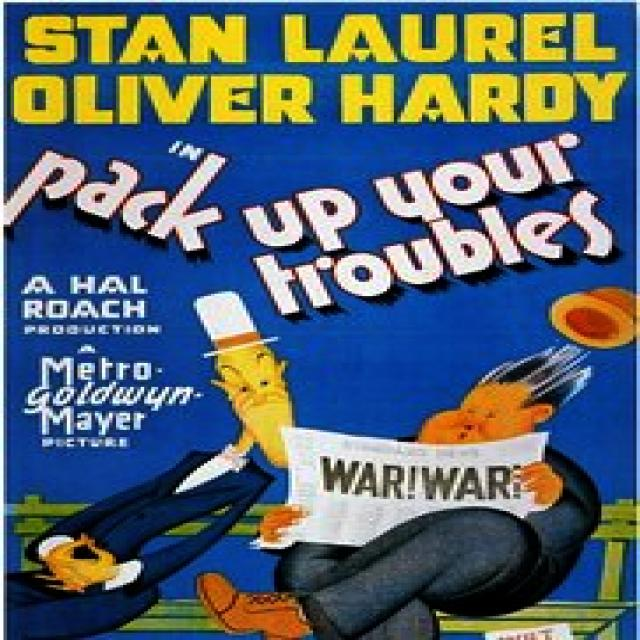movie-judul: (6, 129, 640, 317)
picture: (21, 293, 630, 636)
